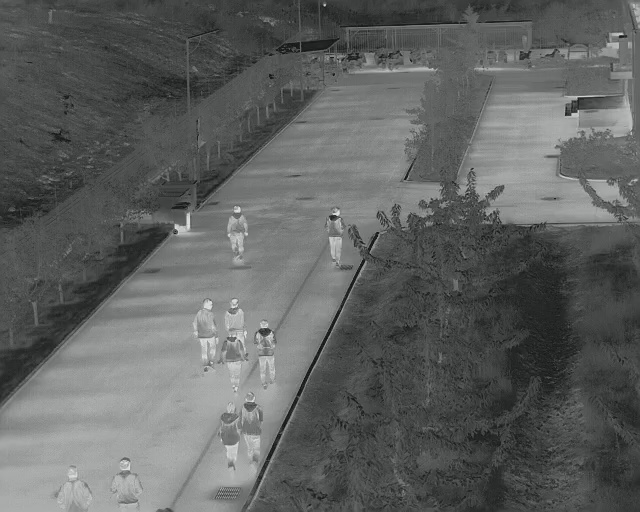person: (238, 390, 267, 472), (192, 294, 219, 373), (55, 462, 98, 511), (109, 456, 145, 510), (218, 402, 243, 476), (253, 318, 279, 389), (322, 204, 346, 269), (221, 328, 244, 391), (225, 204, 248, 260), (224, 297, 248, 329)
